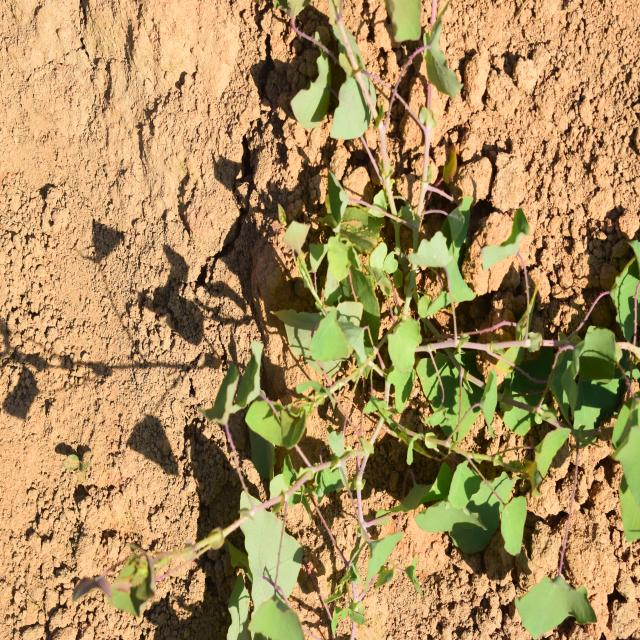Asiatic_Smartweed: (208, 359, 324, 618), (298, 213, 431, 422), (374, 196, 543, 344), (405, 420, 528, 580)
